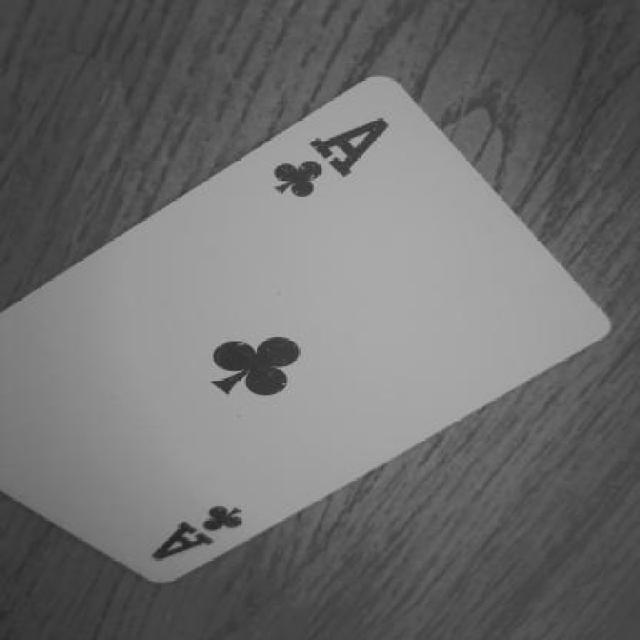AC: (262, 108, 408, 204), (150, 496, 272, 576)
